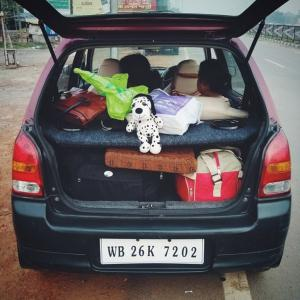Vehicle-registration-plate: (101, 239, 206, 267)
